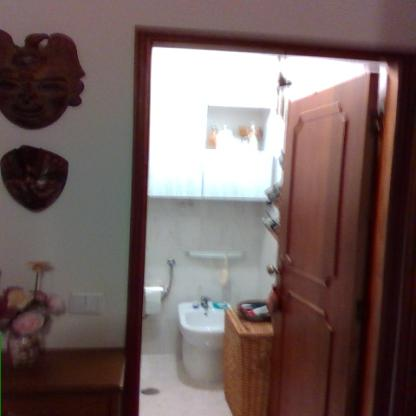open: (116, 15, 415, 416)
